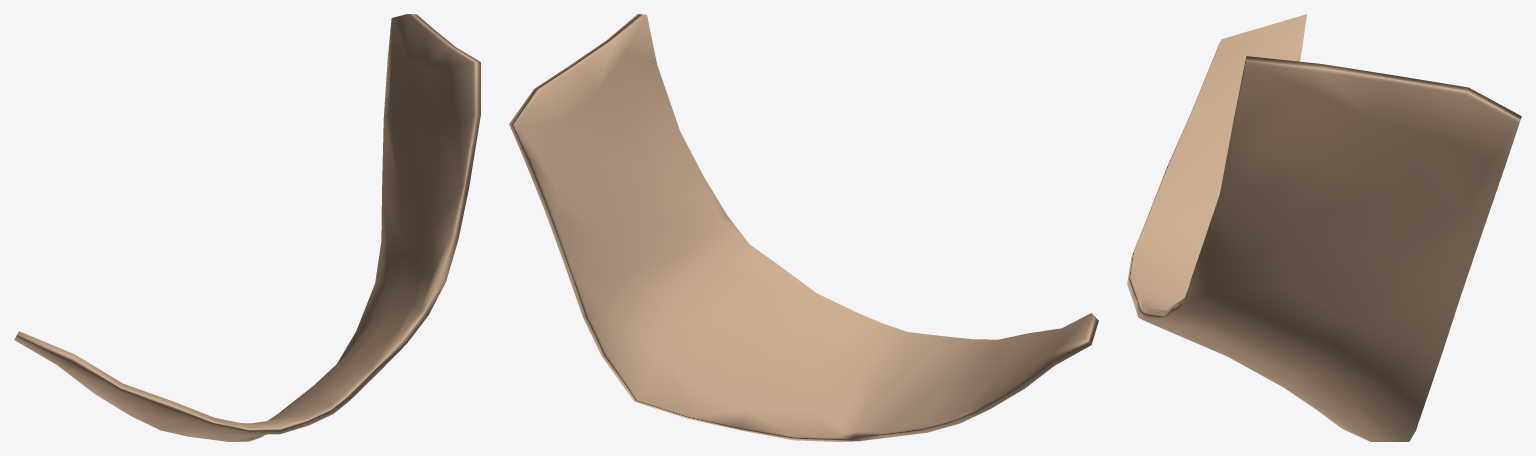
The picture shows the model from 3 angles, left to right: view 1: azimuth 30°, elevation 25°; view 2: azimuth 150°, elevation 25°; view 3: azimuth 270°, elevation 25°; orthographic projection. The views are drawn at different scales.
Parts seen in each view (by area): view 1: 左侧小腿十字韧带; view 2: 左侧小腿十字韧带; view 3: 左侧小腿十字韧带.
Part boxes in pixels (x1,y1,x2,y2): 左侧小腿十字韧带: (14, 14, 480, 441); 左侧小腿十字韧带: (509, 14, 1098, 441); 左侧小腿十字韧带: (1127, 14, 1521, 441).
Size of the model in its own units: 0.0779 by 0.0543 by 0.0419.
